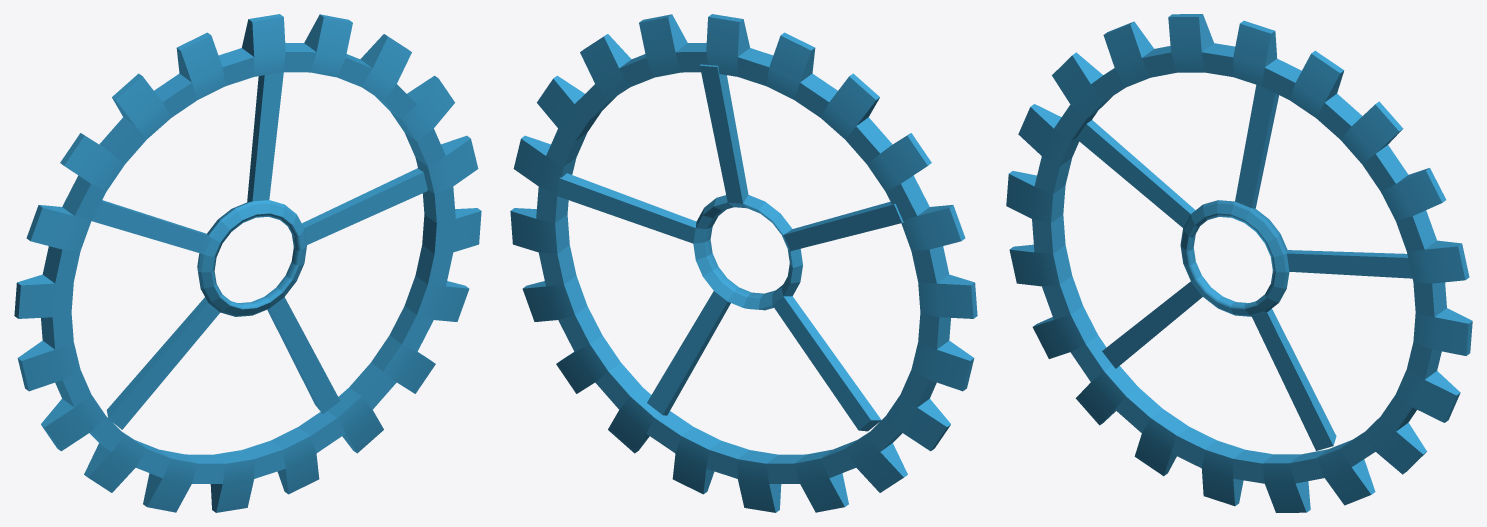
The model's file is Gear_Diam_02_Size_3.fbx.
3 renders of one model, left to right at view 1: azimuth 30°, elevation 25°; view 2: azimuth 150°, elevation 25°; view 3: azimuth 330°, elevation 25°, orthographic.
Parts seen in each view (by area): view 1: Gear_Diam_02_Size_3; view 2: Gear_Diam_02_Size_3; view 3: Gear_Diam_02_Size_3.
Part boxes in pixels (x1=…): Gear_Diam_02_Size_3: x1=14, y1=14, x2=481, y2=512; Gear_Diam_02_Size_3: x1=510, y1=14, x2=977, y2=512; Gear_Diam_02_Size_3: x1=1006, y1=14, x2=1472, y2=512.
Bounding box in the file's own units: 26.21 × 26.21 × 1.52.
